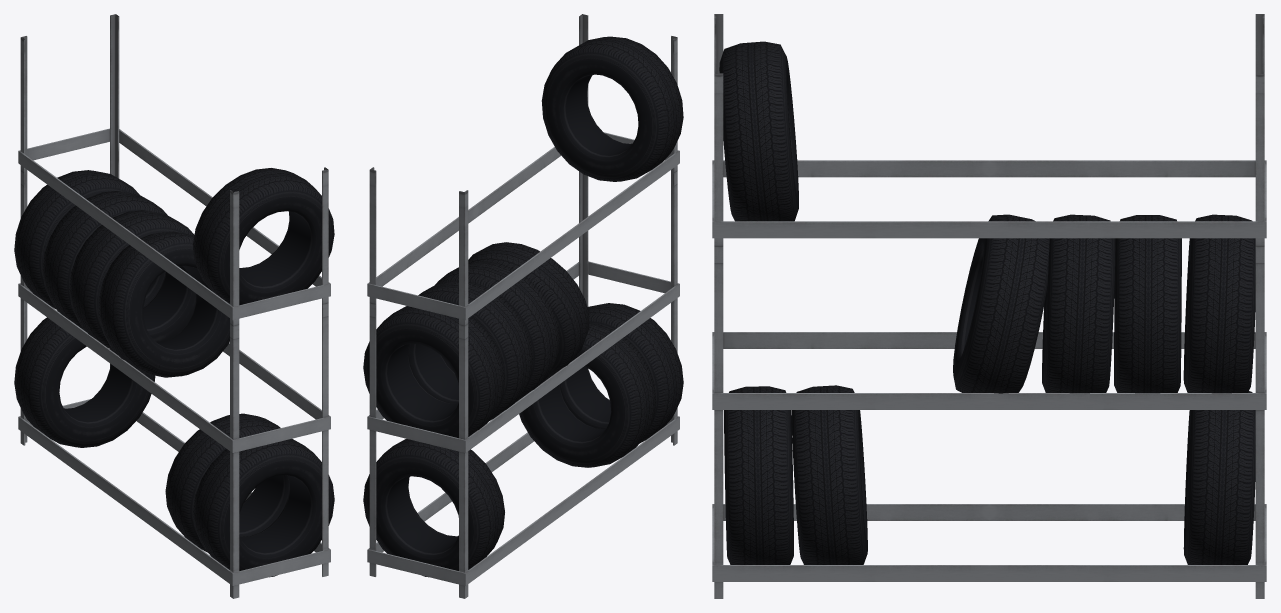
File: TireRack.fbx
3 renders of one model, left to right at view 1: azimuth 30°, elevation 25°; view 2: azimuth 150°, elevation 25°; view 3: azimuth 270°, elevation 25°, orthographic. The views are drawn at different scales.
Parts seen in each view (by area): view 1: TireRack_low; view 2: TireRack_low; view 3: TireRack_low.
Boxes of the visible parts, box(x1,y1,x2,y2) form: TireRack_low: box(14, 14, 334, 598); TireRack_low: box(363, 14, 683, 598); TireRack_low: box(712, 14, 1266, 598).
Size of the model in its own units: 84.79 by 261 by 250.
